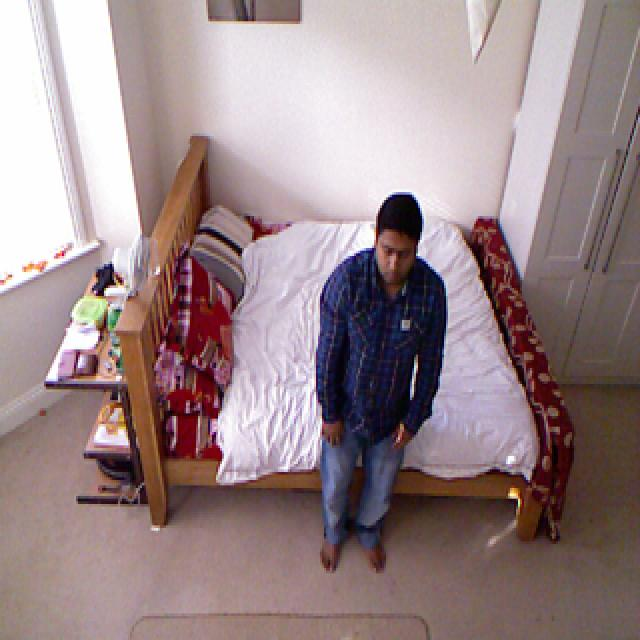standing: (313, 190, 451, 590)
